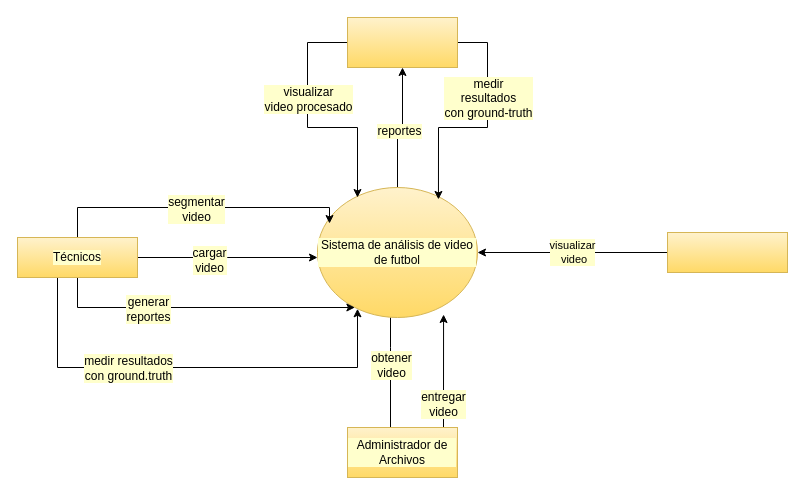
The diagram is 805 pixels wide and 495 high, and some of its shapes have lost their labels. The shapes that lost their labels are listed below. From the top down, each one's centre as x and y in pixels, then its label:
the point at 402,42: Administrativos
the point at 727,252: Jugadores
